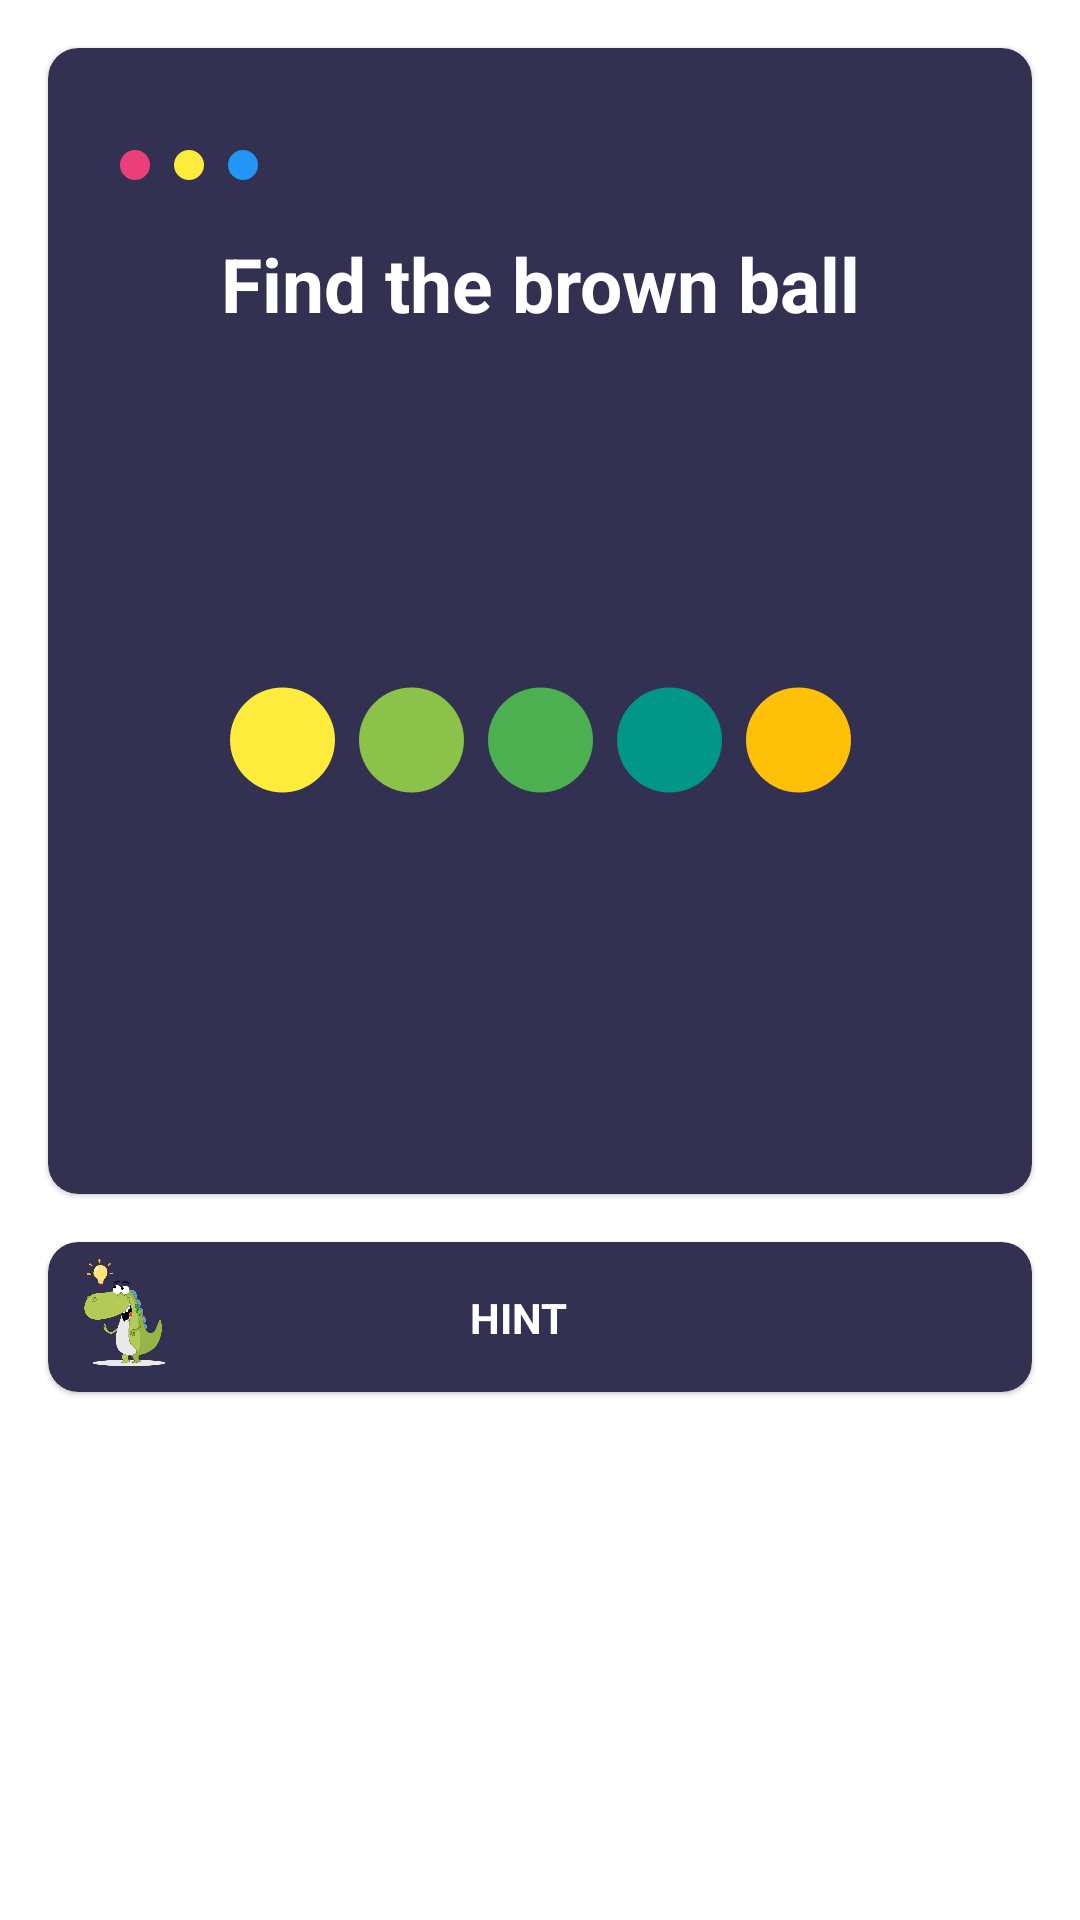

Locate icon controls on the screen. Image size 1080 x 1920, boxes as (x1, y1, x2, y2).
idea: (48, 1242, 198, 1392)
